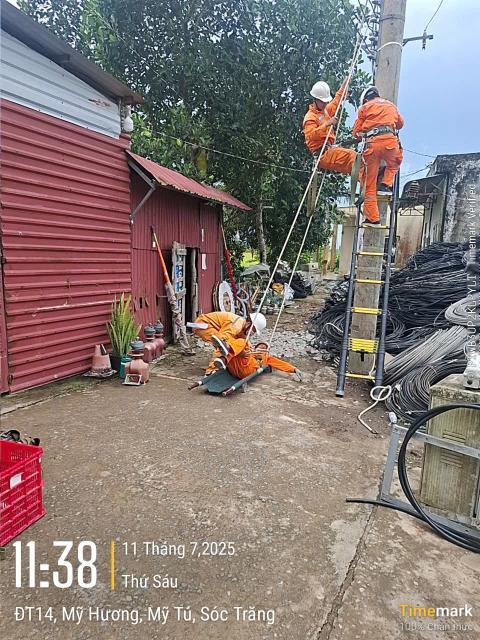harness: (309, 142, 369, 159), (353, 126, 413, 139), (252, 354, 269, 371)
helmet: (247, 299, 270, 332), (308, 82, 340, 105), (356, 83, 383, 106), (258, 339, 276, 353)
shoes: (208, 331, 230, 355), (208, 354, 231, 375), (358, 214, 386, 231), (379, 182, 399, 195)
